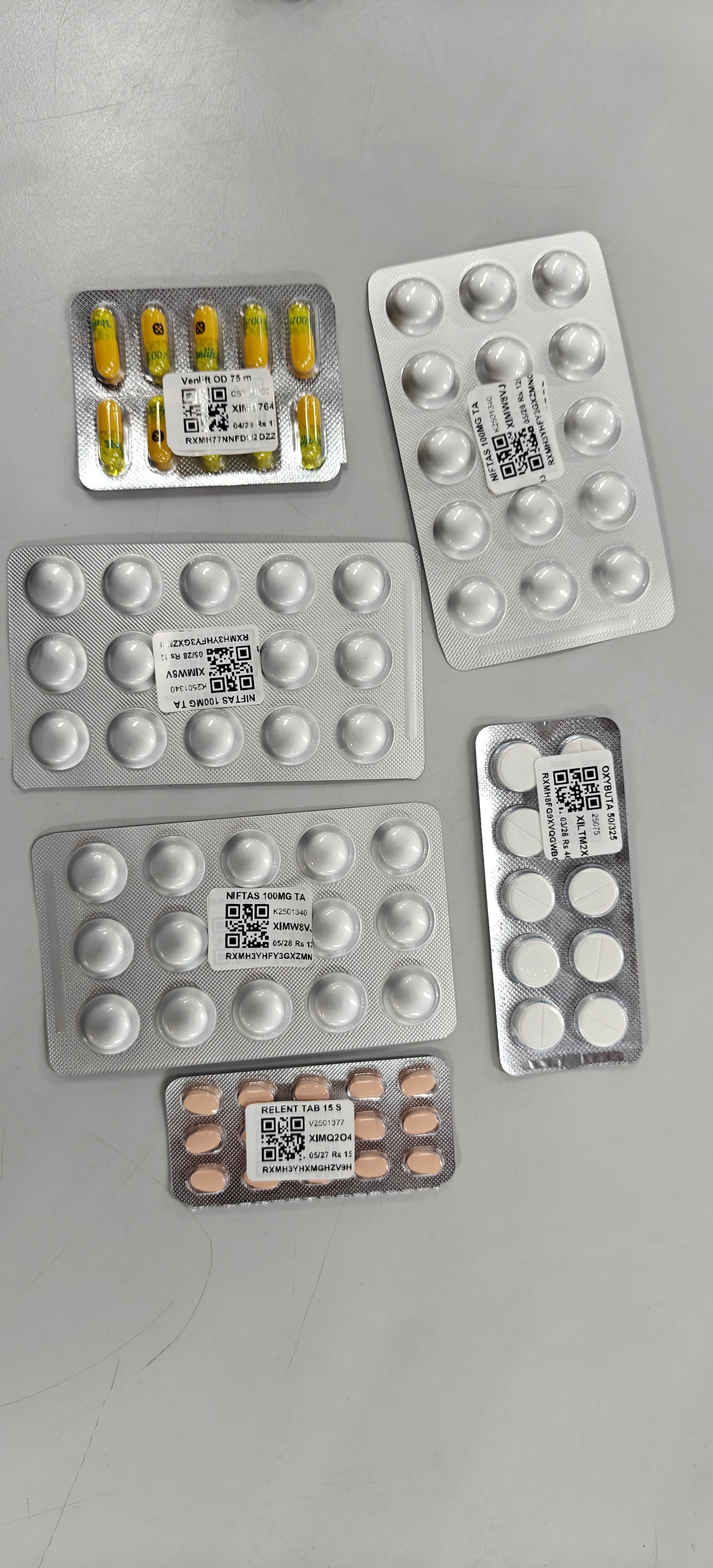qr_code: (492, 423, 544, 480), (206, 645, 254, 693), (552, 766, 601, 813), (261, 1116, 305, 1161)
